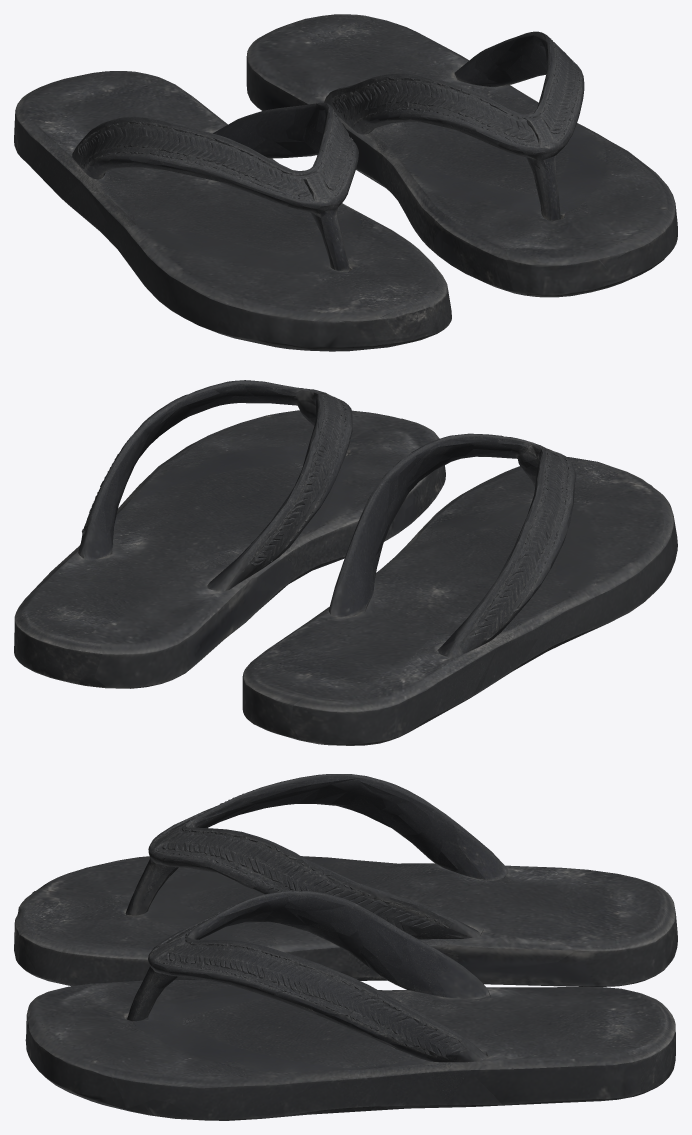
File: remeshed-sandalsA.glb
3 renders of one model, top to bottom at view 1: azimuth 30°, elevation 25°; view 2: azimuth 150°, elevation 25°; view 3: azimuth 270°, elevation 25°, orthographic.
Visible parts, largest first — view 1: output_unwrapped; view 2: output_unwrapped; view 3: output_unwrapped.
Boxes of the visible parts, x1=… form: output_unwrapped: x1=14, y1=14, x2=677, y2=351; output_unwrapped: x1=14, y1=380, x2=677, y2=745; output_unwrapped: x1=14, y1=774, x2=677, y2=1120.
Bounding box in the file's own units: 1.6 × 0.4569 × 1.9.
Materials: 1 (1 with a texture image).
